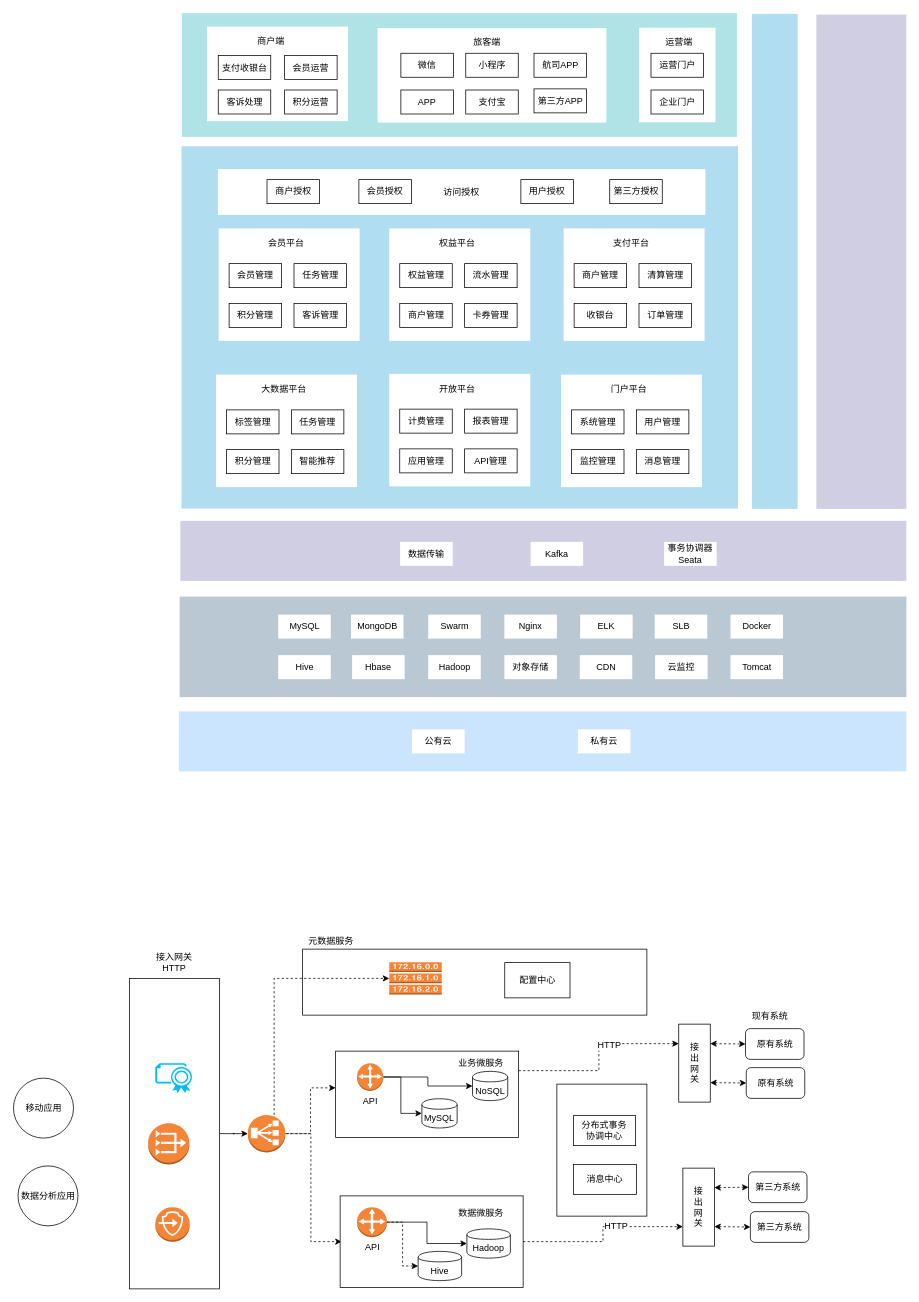
Image size: 919x1302. Some labels were removed from this diagram. Here are the shapes that lost their labels. From the top down, the centre of each, then its label:
the point at 774,261: 监控预警
the point at 861,261: 第三方
the point at 415,978: 服务发现
